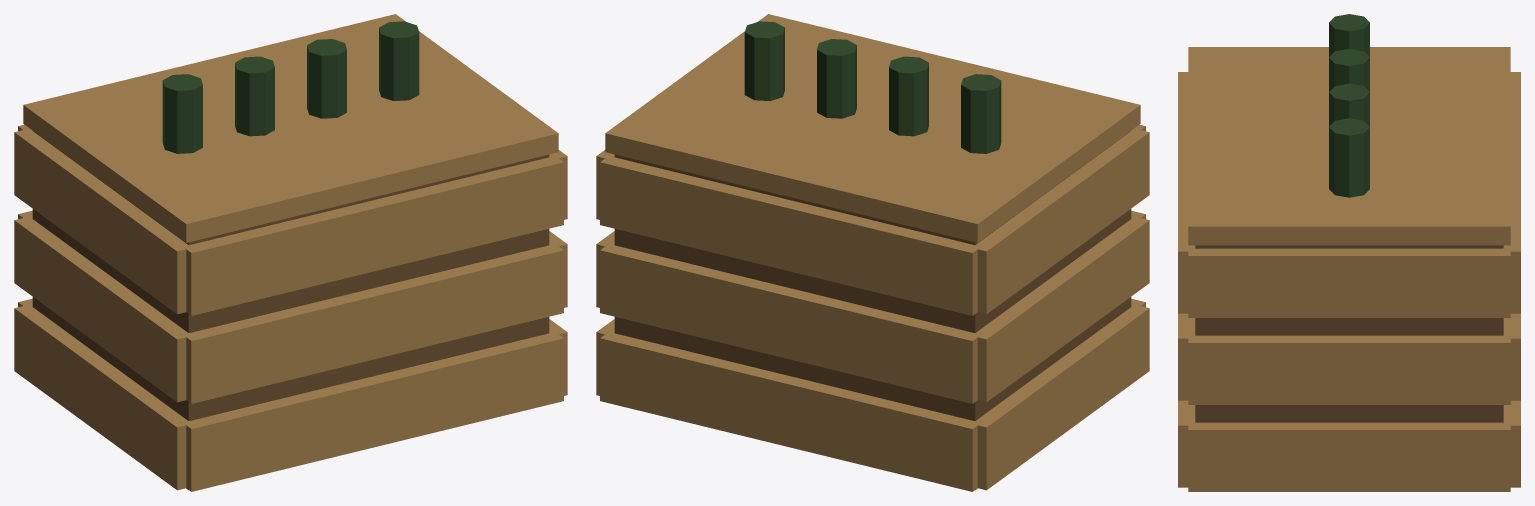
The model's file is crate_bottles.glb.
3 views of the same model, side by side, from view 1: azimuth 30°, elevation 25°; view 2: azimuth 150°, elevation 25°; view 3: azimuth 270°, elevation 25° (orthographic).
Parts seen in each view (by area): view 1: core; view 2: core; view 3: core.
Part boxes in pixels (x1,y1,x2,y2): core: (14,14,567,491); core: (596,14,1149,491); core: (1178,14,1520,491).
Bounding box in the file's own units: 0.65 × 0.53 × 0.5.
